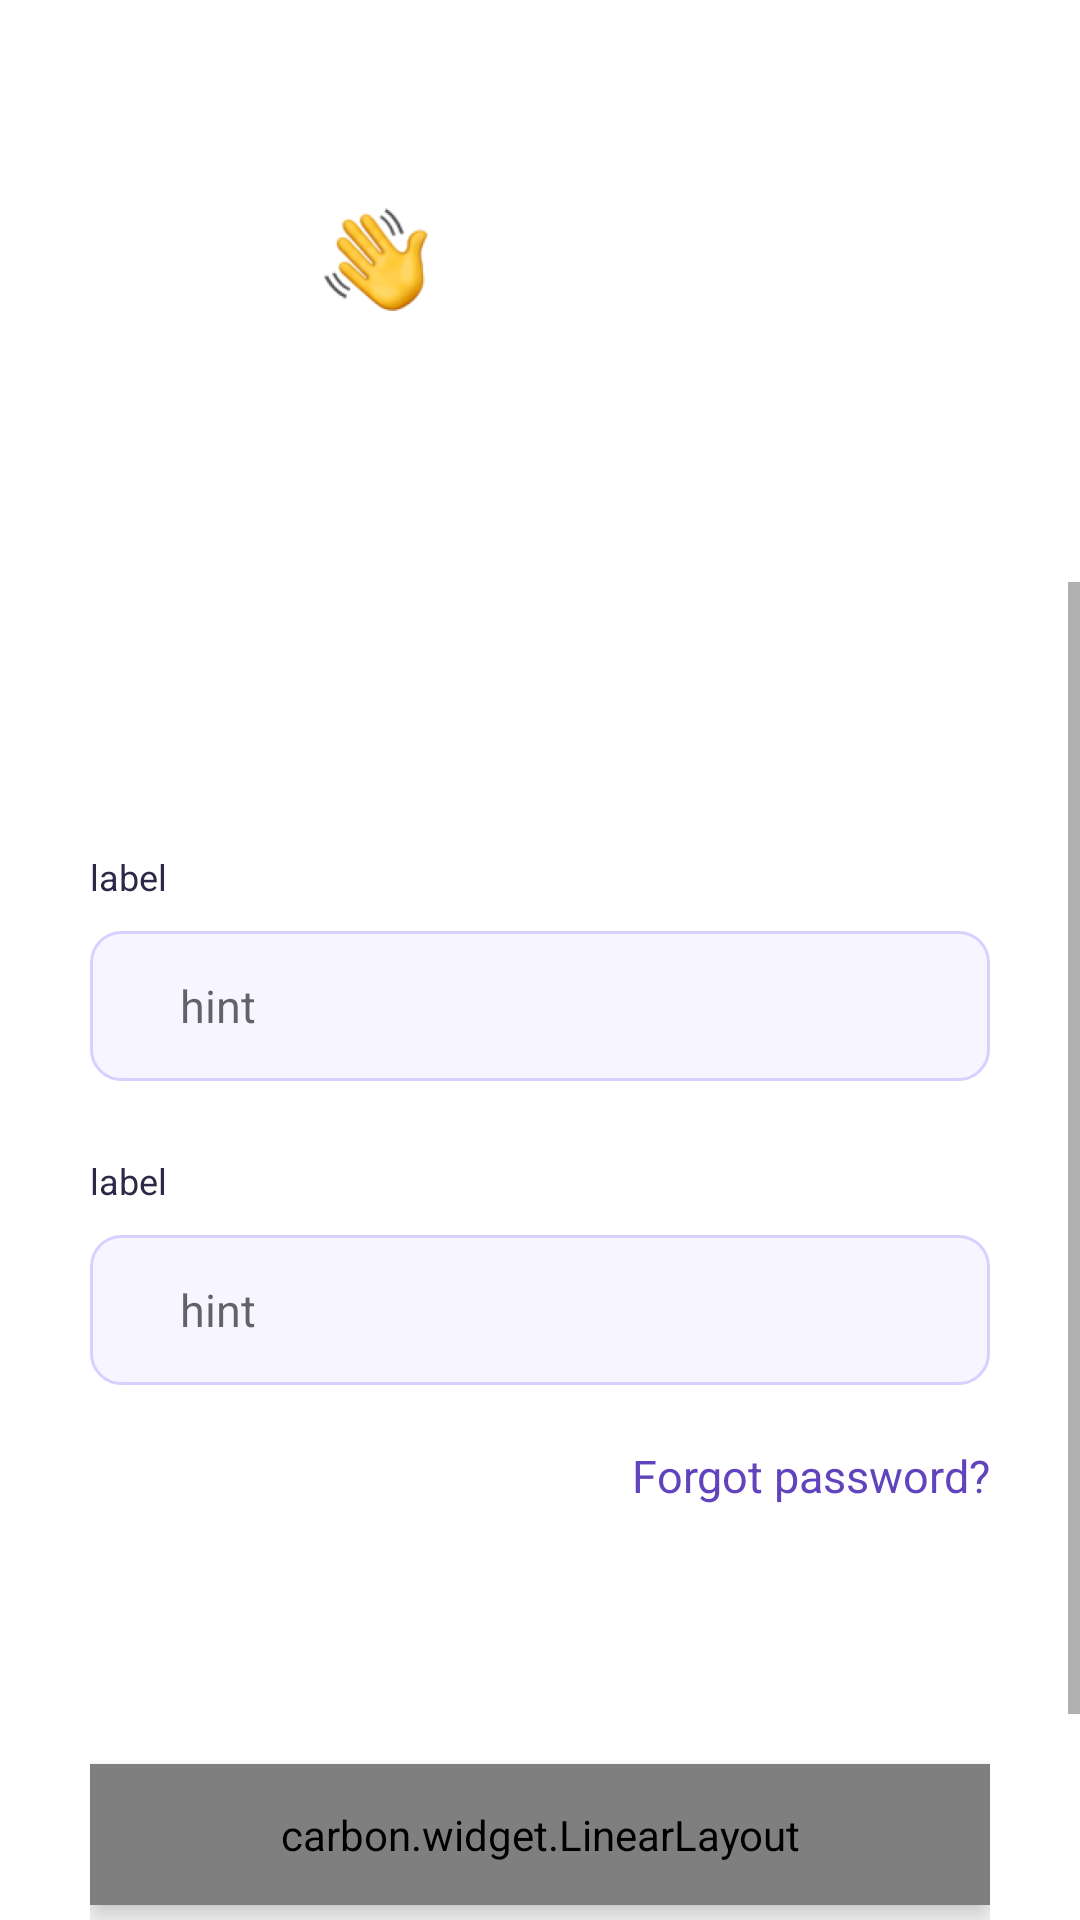

Screen size 1080 x 1920. Icon name, then its center in pixels as (x,y):
hand: (376,259)
